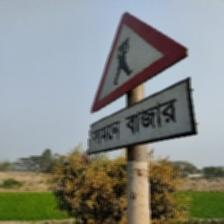Market-in-front: (88, 11, 198, 155)
